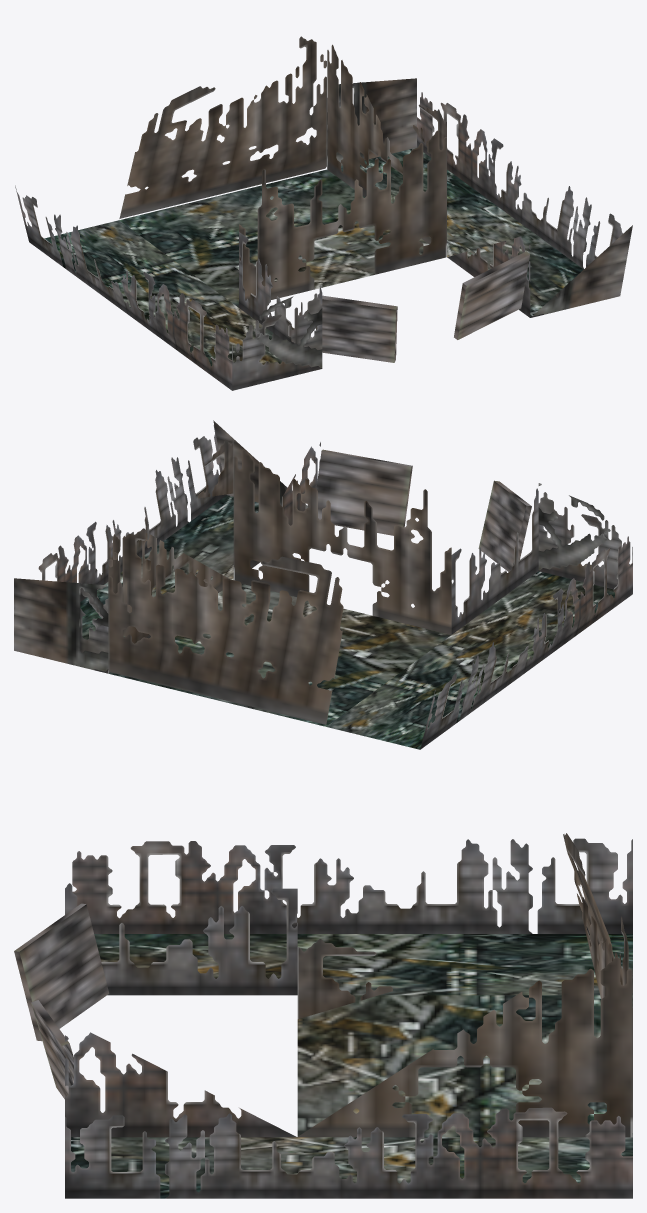
Rendered from meethall_dam.glb.
3 renders of one model, top to bottom at view 1: azimuth 30°, elevation 25°; view 2: azimuth 150°, elevation 25°; view 3: azimuth 270°, elevation 25°, orthographic. The views are drawn at different scales.
Parts seen in each view (by area): view 1: Box02; view 2: Box02; view 3: Box02.
Boxes of the visible parts, bbox=[...] form: Box02: bbox=[15, 36, 632, 390]; Box02: bbox=[14, 420, 632, 749]; Box02: bbox=[14, 833, 632, 1198].
Size of the model in its own units: 24.76 by 8.95 by 22.82.
2 materials, 2 textured.
